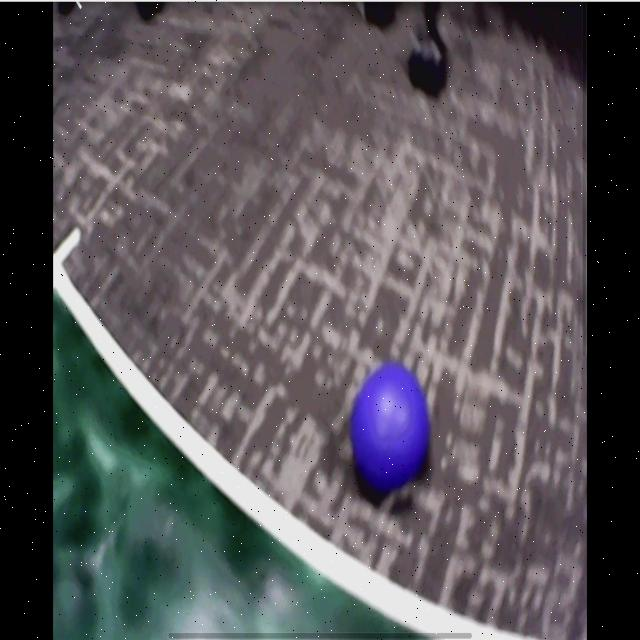ball: (353, 368, 430, 496)
